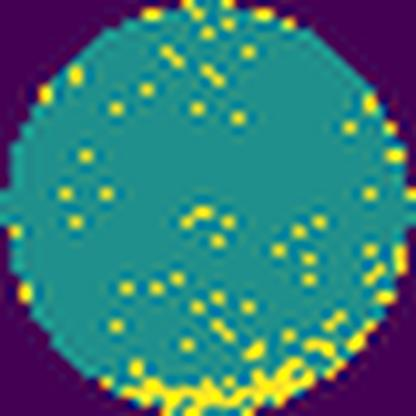Edge-Loc: (116, 356, 318, 415)
